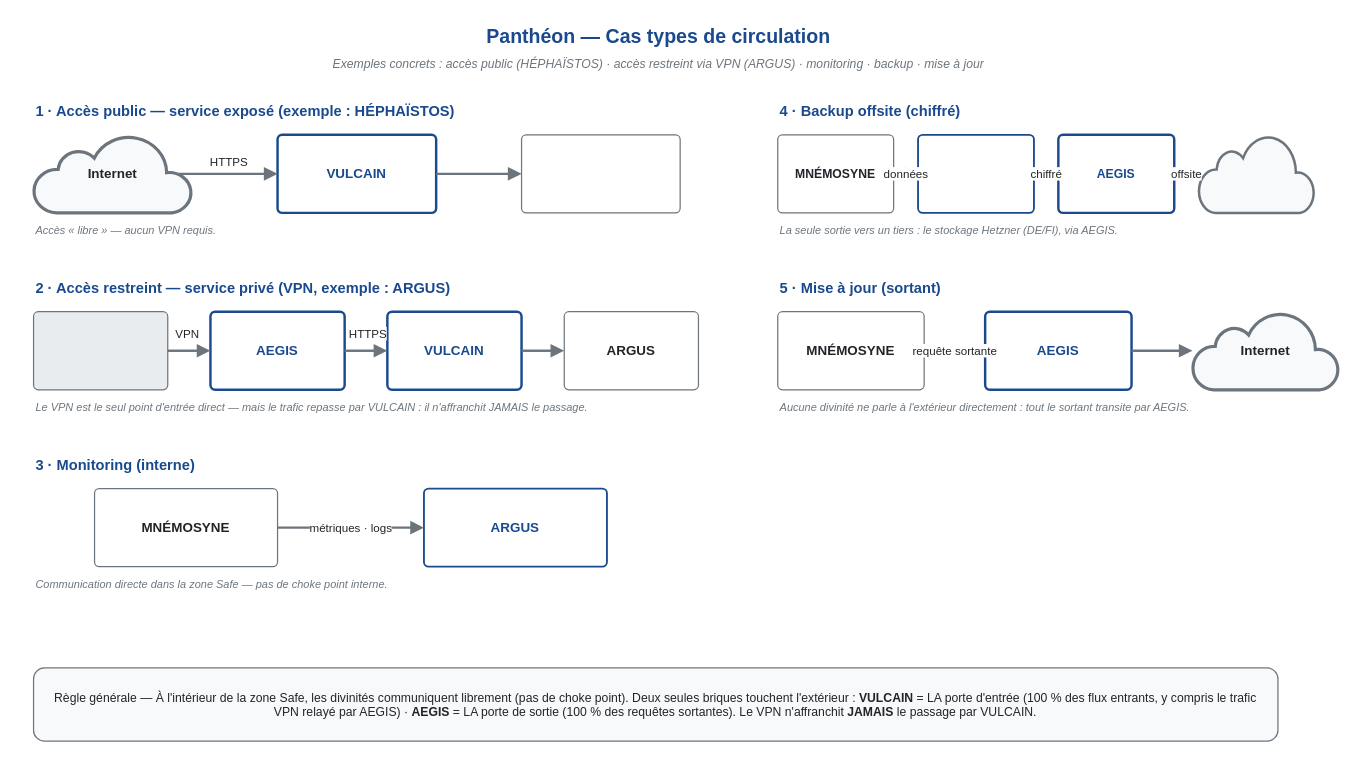
The diagram is 1360 pixels wide and 763 high, and some of its shapes have lost their labels. Each missing label, with the centre of its shape:
"ARK" goes at (x=975, y=173).
"Hetzner DE/FI" goes at (x=1256, y=173).
"HÉPHAÏSTOS" goes at (x=600, y=173).
"Utilisateur" goes at (x=100, y=350).
